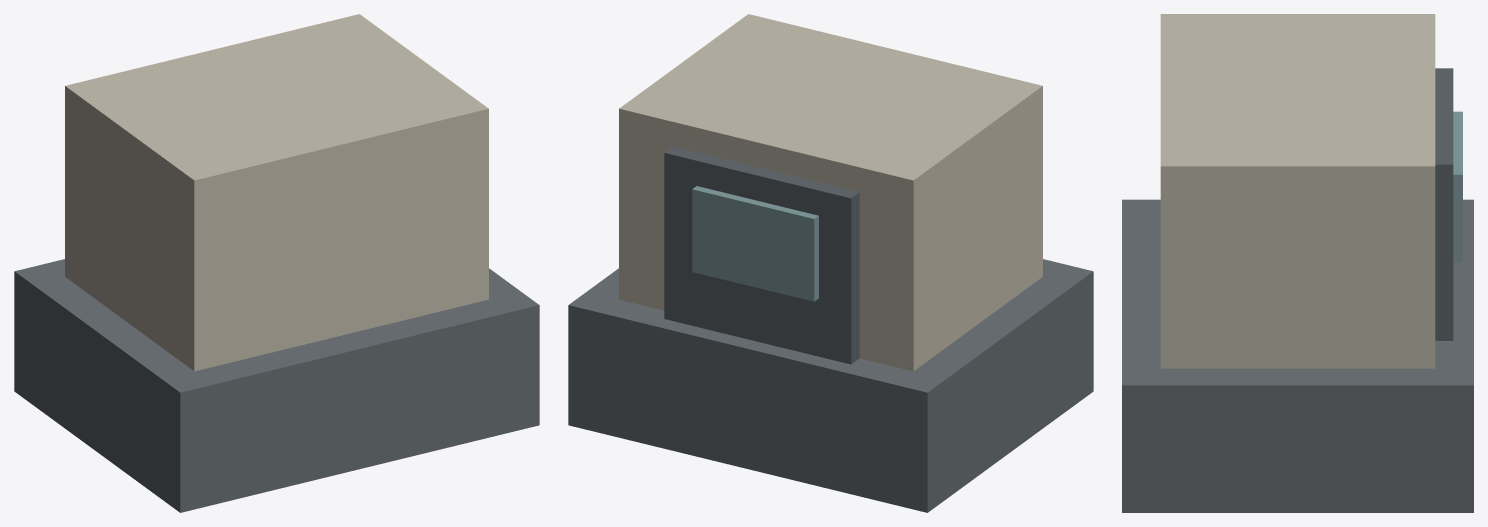
File: iz3_health_autoclave_01.glb
3 renders of one model, left to right at view 1: azimuth 30°, elevation 25°; view 2: azimuth 150°, elevation 25°; view 3: azimuth 270°, elevation 25°, orthographic. The views are drawn at different scales.
Visible parts, largest first — view 1: cabinet, base; view 2: cabinet, base, panel, display; view 3: cabinet, base, panel, display.
Part boxes in pixels (box(x1,y1,x2,y2)): cabinet: box(65, 14, 488, 371); base: box(14, 259, 539, 512); cabinet: box(619, 14, 1042, 371); base: box(568, 259, 1093, 512); panel: box(664, 146, 859, 364); display: box(692, 186, 818, 301); cabinet: box(1160, 14, 1435, 368); base: box(1122, 199, 1473, 512); panel: box(1435, 68, 1453, 340); display: box(1453, 111, 1462, 262).
Size of the model in its own units: 1 by 0.828 by 0.8.
